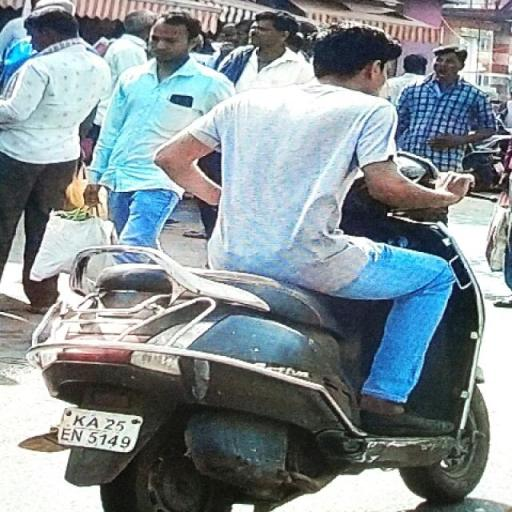bike: (28, 15, 494, 511)
numberplate: (58, 404, 140, 454)
withouthelmet: (310, 23, 394, 87)
